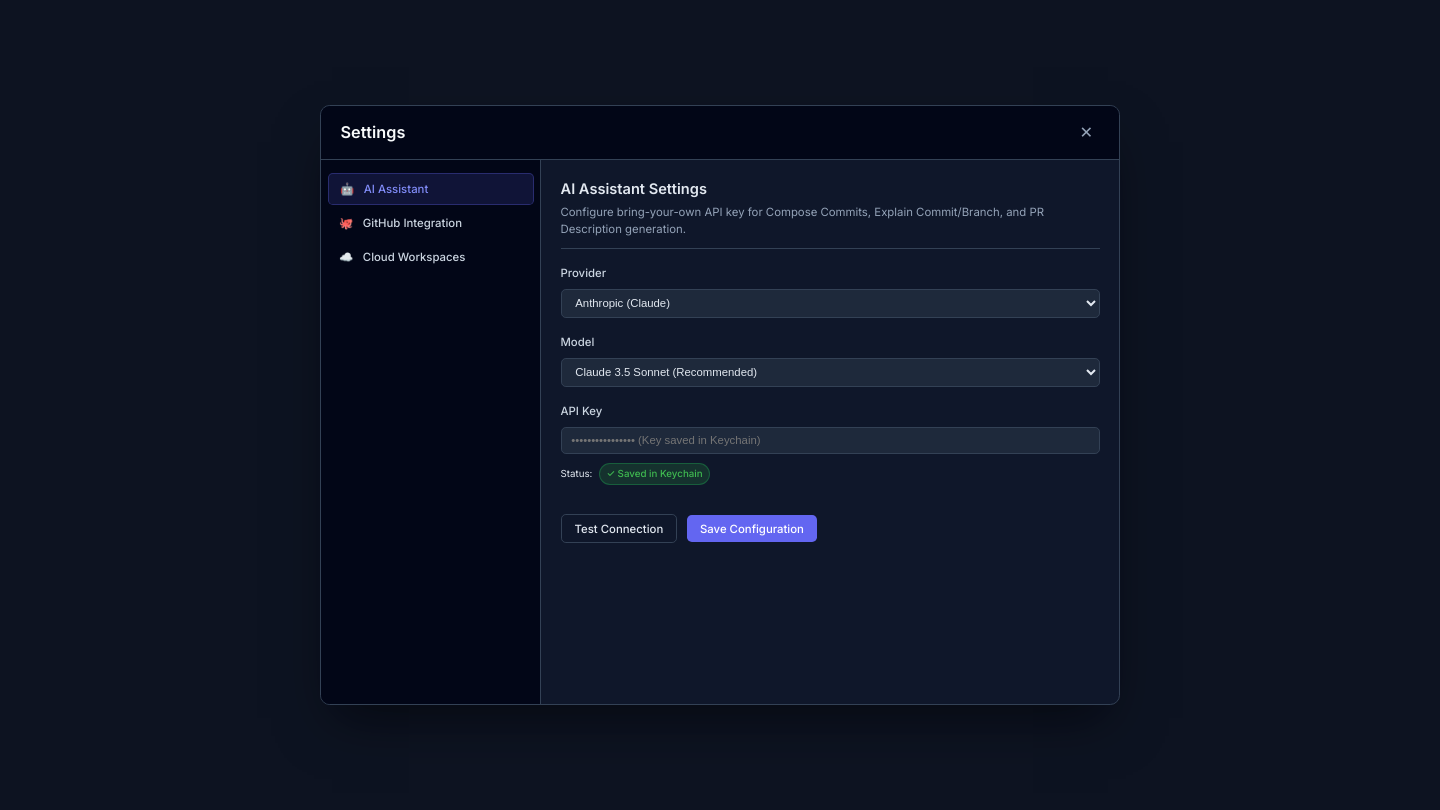
Test: Settings Component › saves configuration on submit
Expected: the button "Save Configuration" is shown, [687, 515, 817, 542]
Type "sk-ant-test-key" into the password field with placeholder "•••••••••••••••• (Key saved in Keychain)" at (830,440), box [560, 426, 1100, 454]
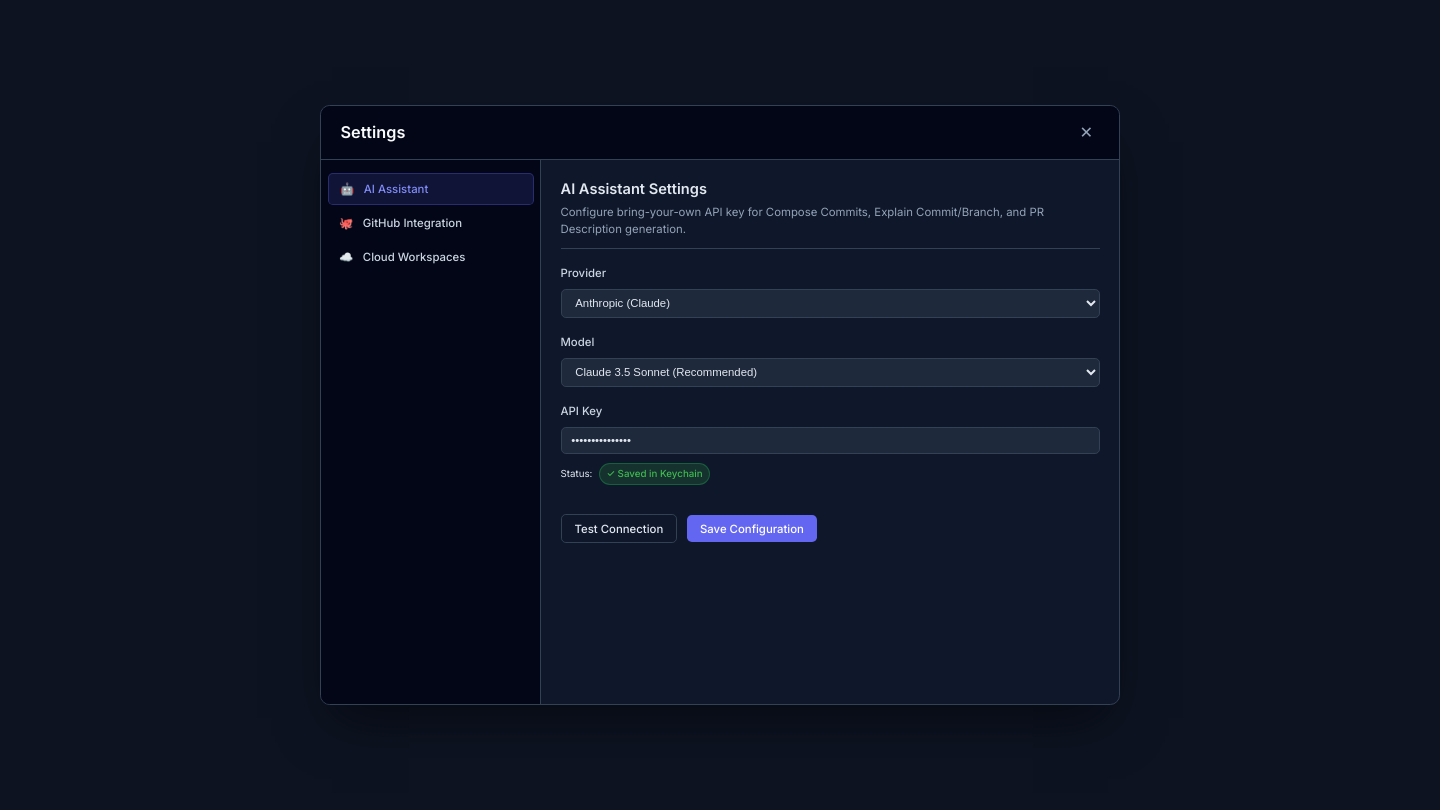
Click the button "Save Configuration" at (752,529), box [687, 515, 817, 542]
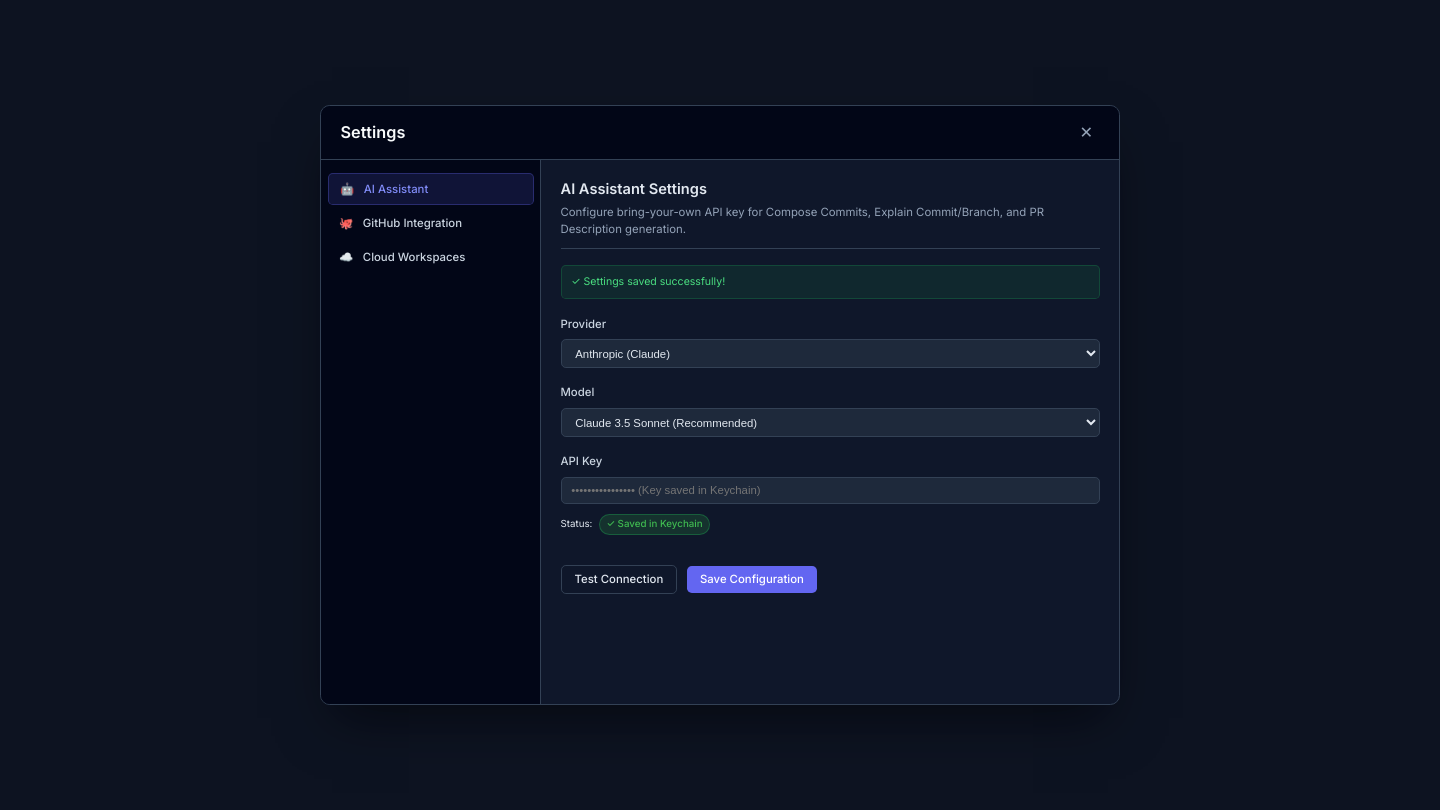
Result: the text "✓ Settings saved successfully!" is shown at [560, 265, 1100, 299]
